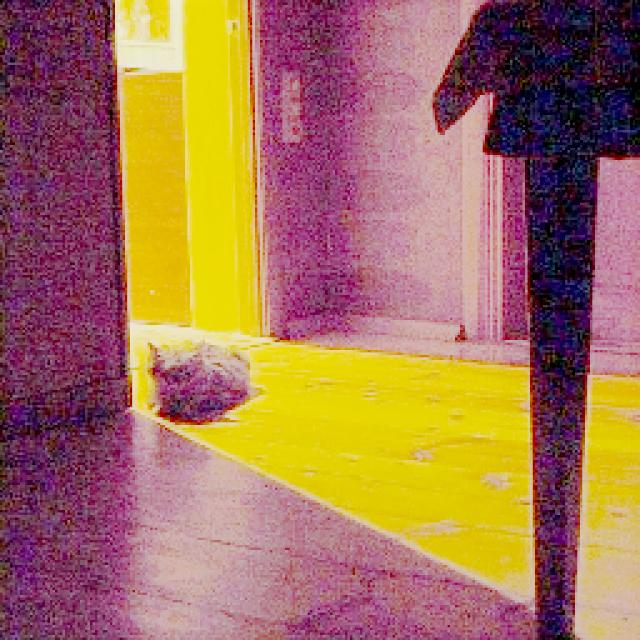cat: (140, 335, 258, 429)
